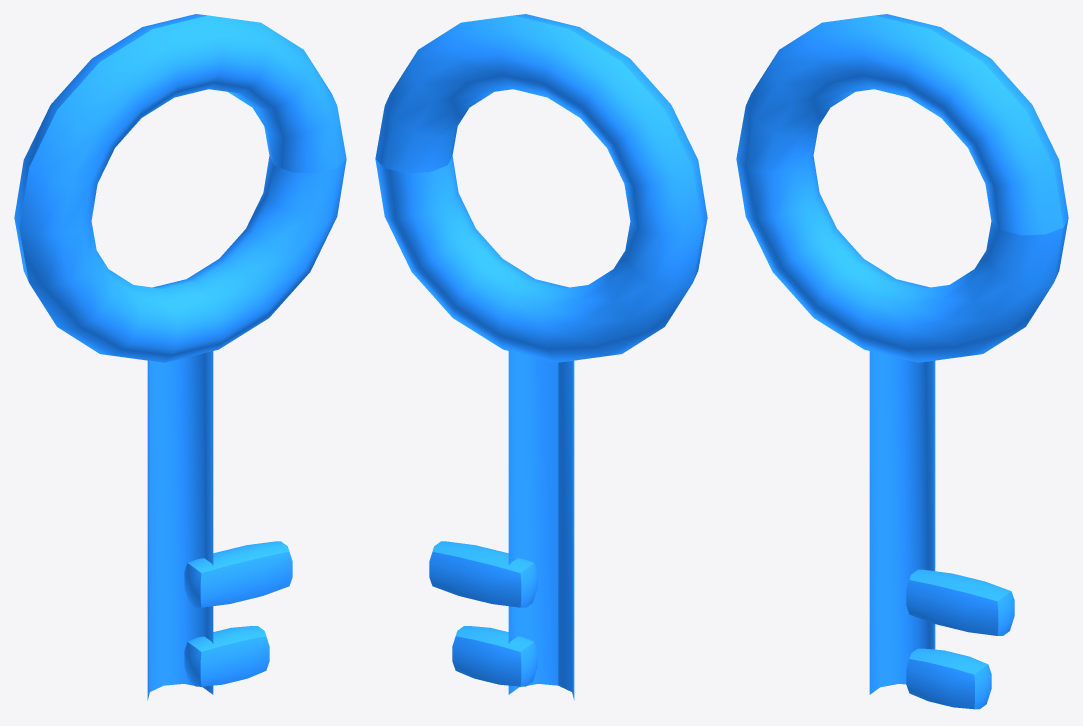
Rendered from key.glb.
3 renders of one model, left to right at view 1: azimuth 30°, elevation 25°; view 2: azimuth 150°, elevation 25°; view 3: azimuth 330°, elevation 25°, orthographic.
Visible parts, largest first — view 1: KeyProp; view 2: KeyProp; view 3: KeyProp.
Part boxes in pixels (x1,y1,x2,y2): KeyProp: [14, 14, 346, 700]; KeyProp: [375, 14, 707, 700]; KeyProp: [736, 14, 1068, 709].
Size of the model in its own units: 0.556 by 1.11 by 0.1103.
